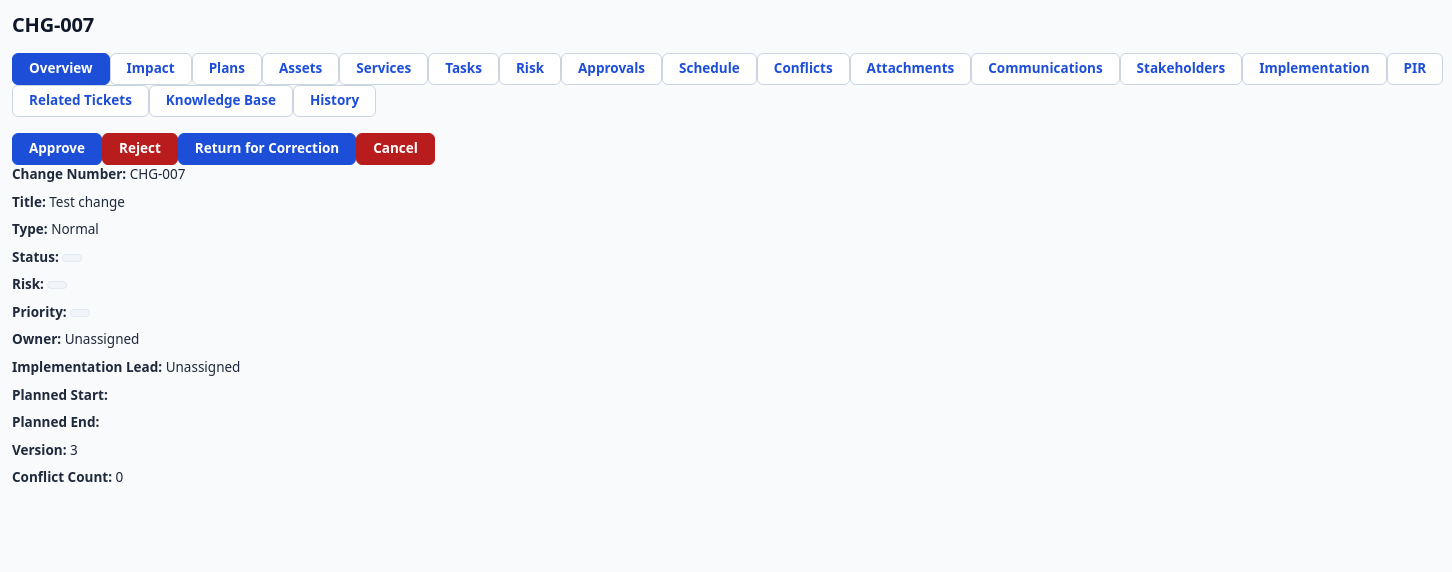
Scenario: ChangeDetail workflow actions › shows an error and does not refresh the record when an action fails
Expected: the heading "CHG-007" is shown, [12, 12, 94, 37]
Click the button "Approve".
click(57, 149)  # box [12, 133, 102, 165]
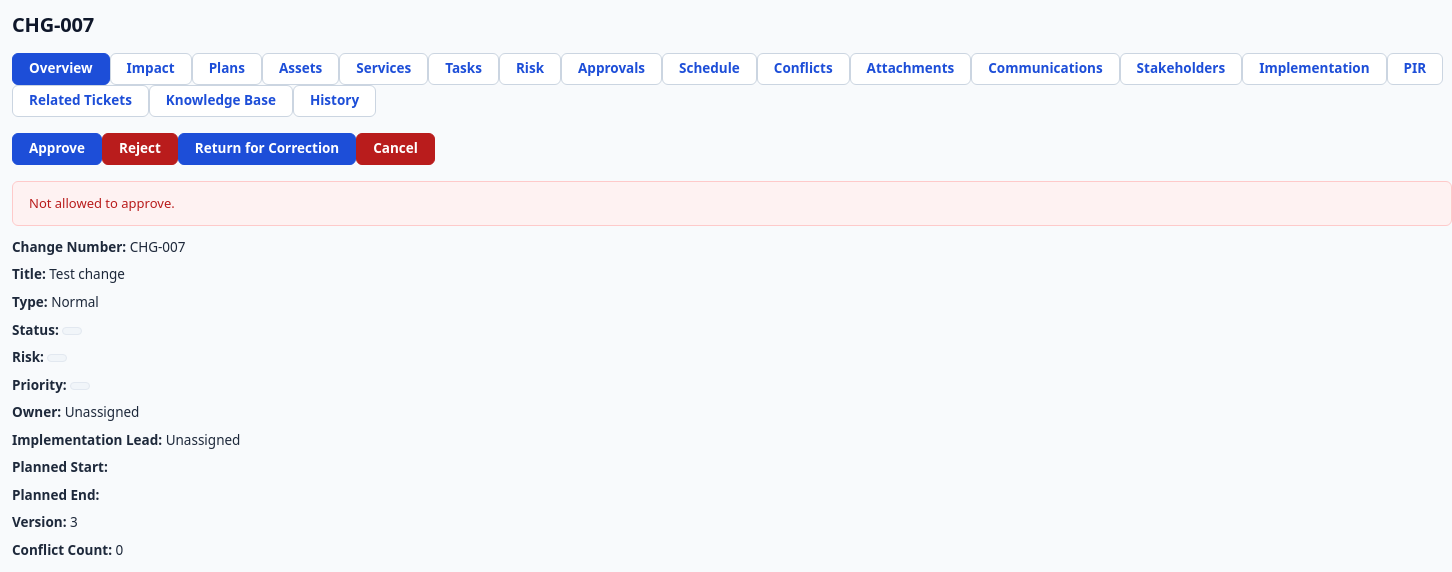
Expected: the text "Not allowed to approve." is shown, [29, 194, 175, 212]
